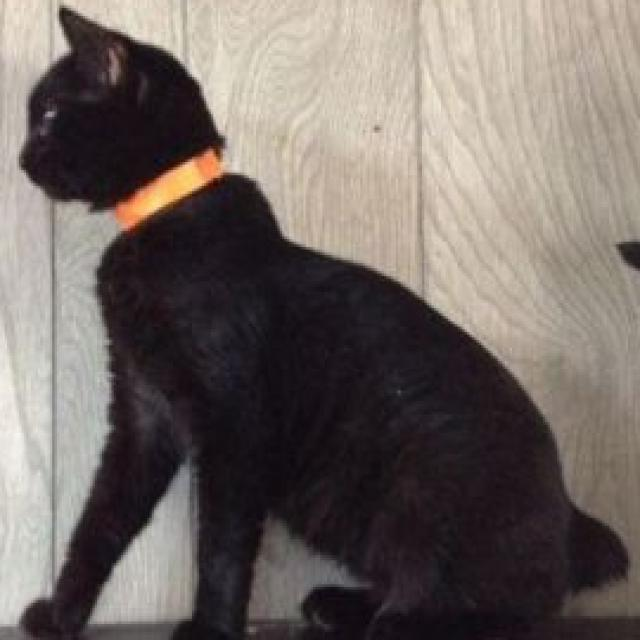American Bobtail: (12, 0, 633, 640)
